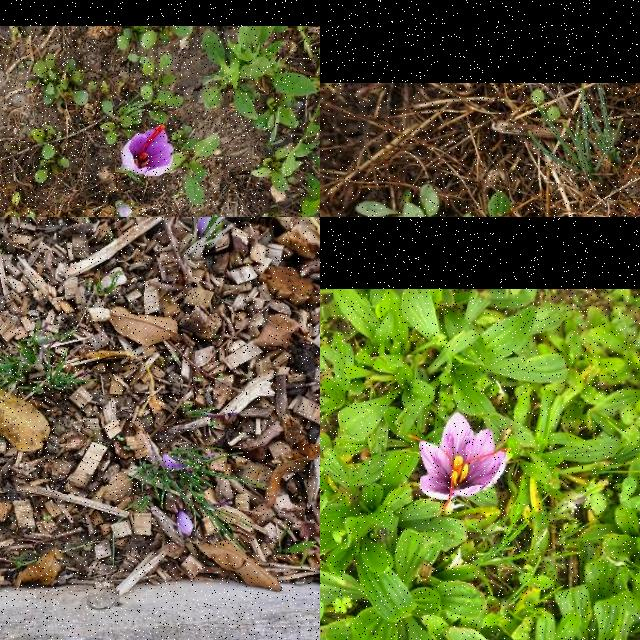flower: (420, 413, 510, 509), (122, 124, 174, 176), (177, 512, 193, 538)
